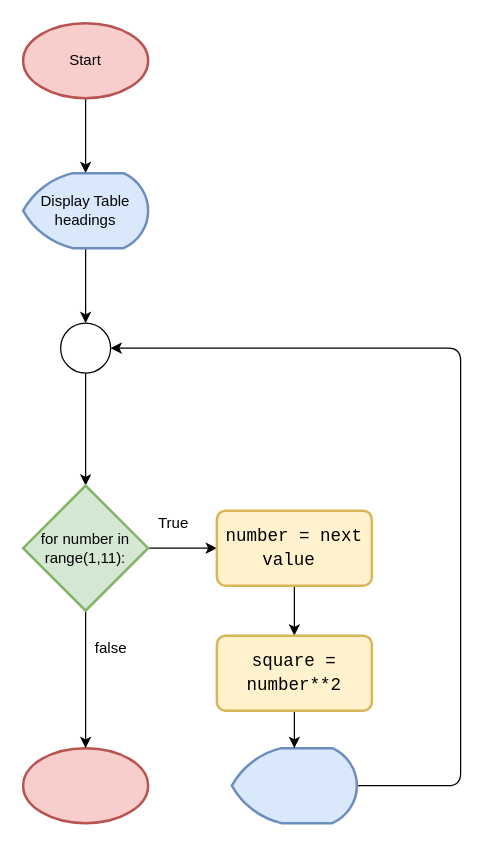
Image size: 493x845. Some labels were removed from this diagram. The shapes that lost their labels are listed below. From the top down, each one's centre as x and y in pixels, then its label:
At [85,785]: "end".
At [294,785]: "Display:fruit".
